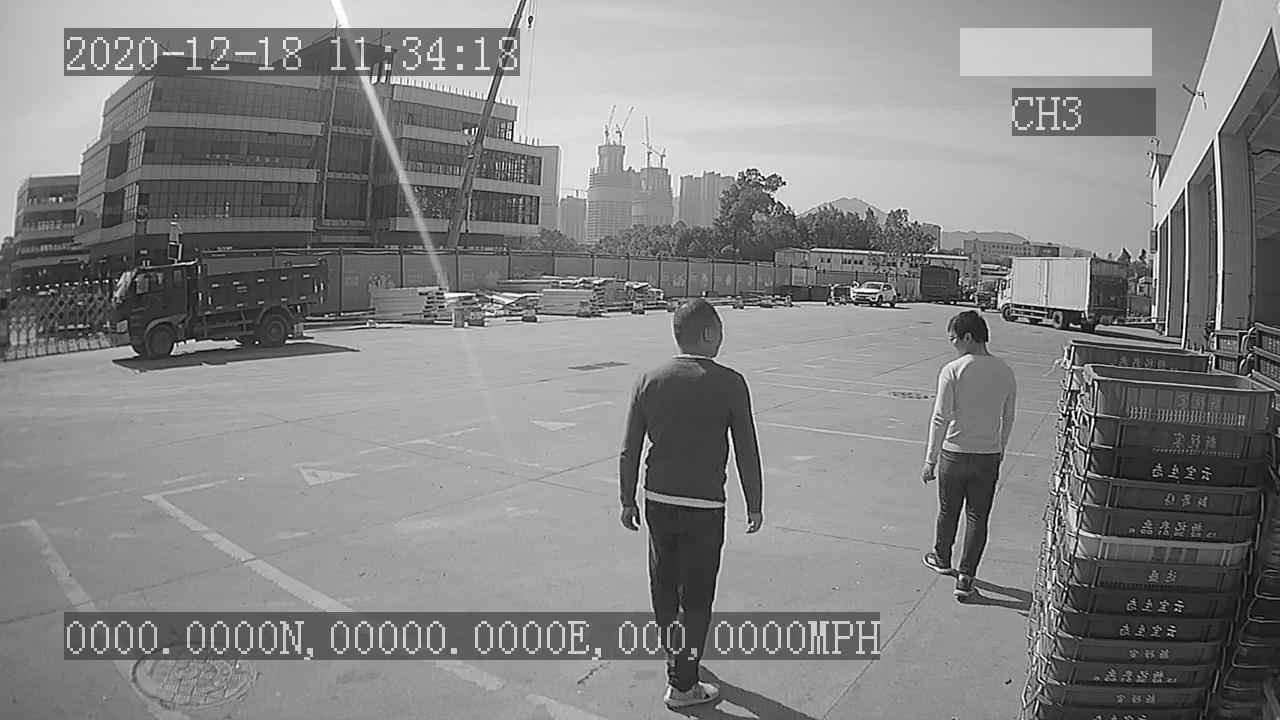person: (920, 311, 1014, 602)
